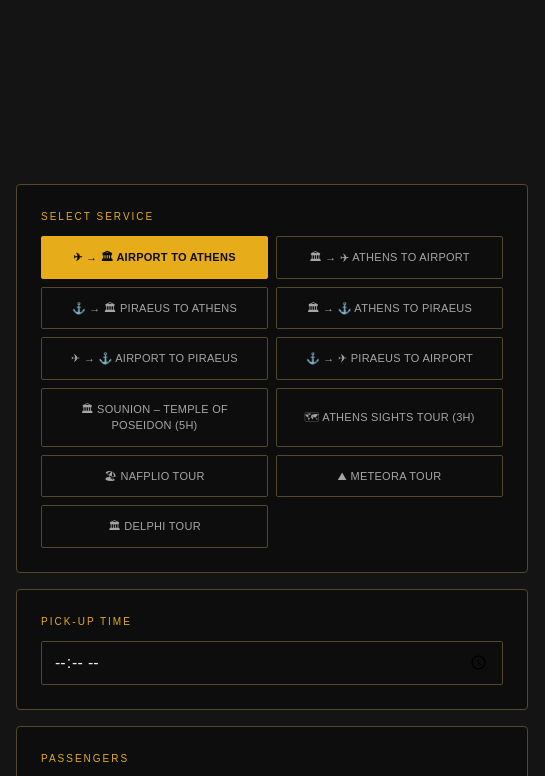
Test case: unchanged calculator fares and customer-initiated email drafts › keeps the meteora fixed fare at €800
Click the button "⛰ Meteora Tour".
click(390, 476)  # box [276,454,503,497]
(page scrolled)
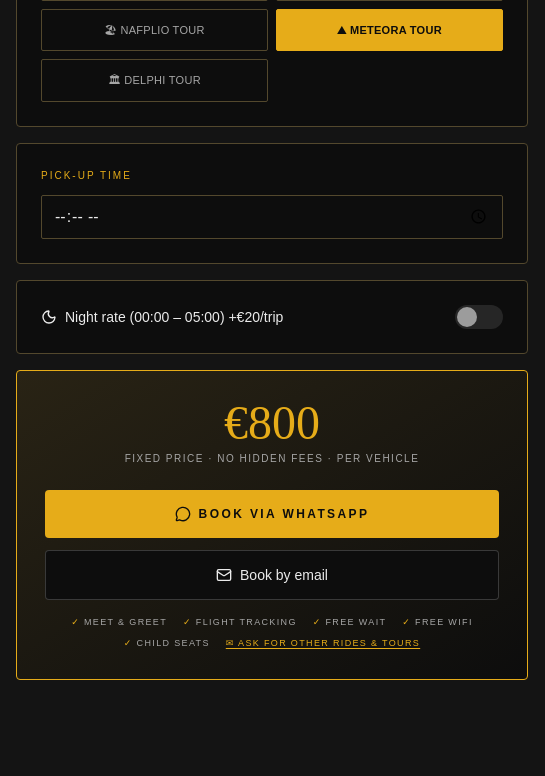
Expected: the text "€800" is shown, [224,396,320,448]
